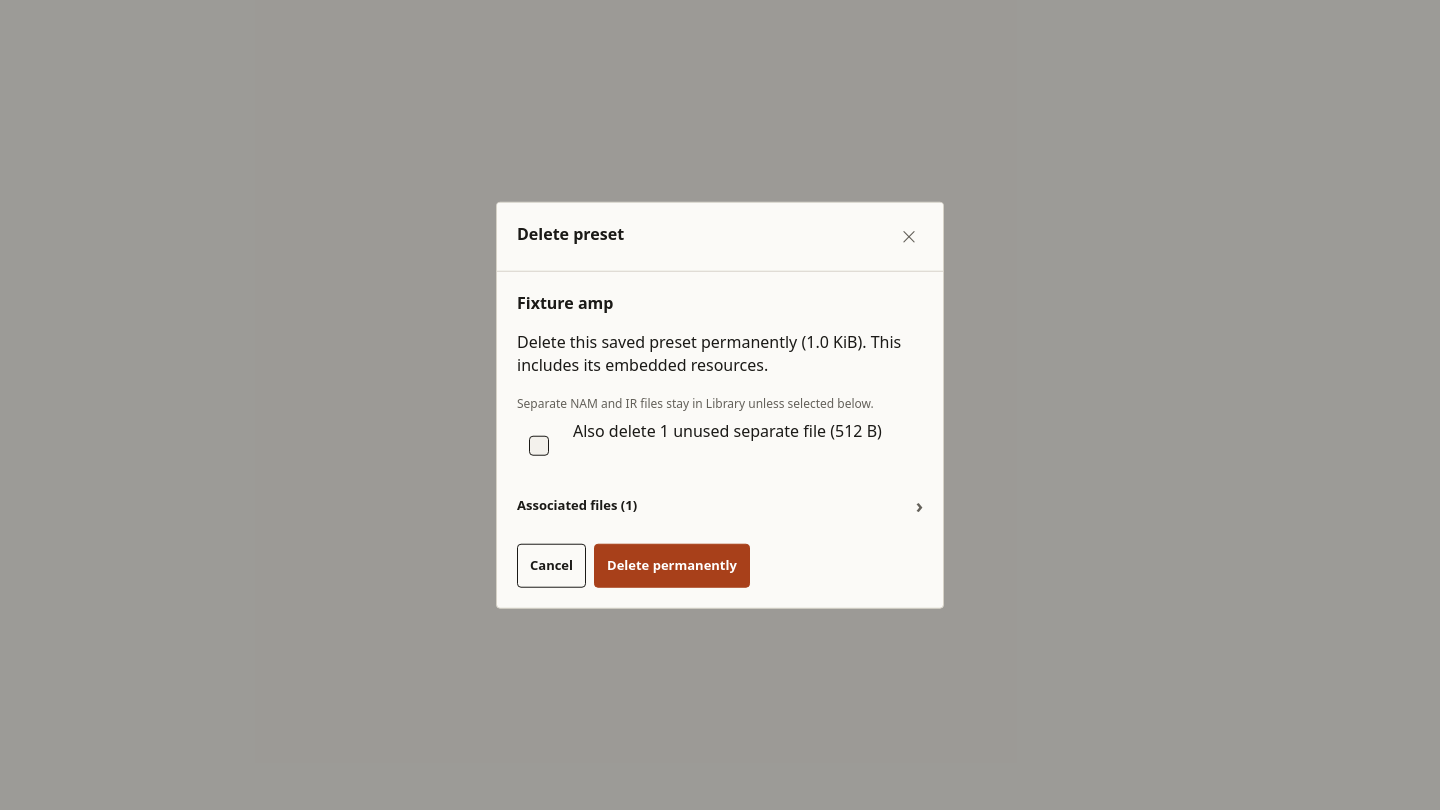
Test case: a stale or uncertain response requires a new preview and never retries deletion
expect the checkbox is shown: met, box [529,435,549,455]
What coordinates should you click on to do the following:
click the button "Delete permanently"
I would click on:
 (672, 565)
Its box is [594,543,750,587].
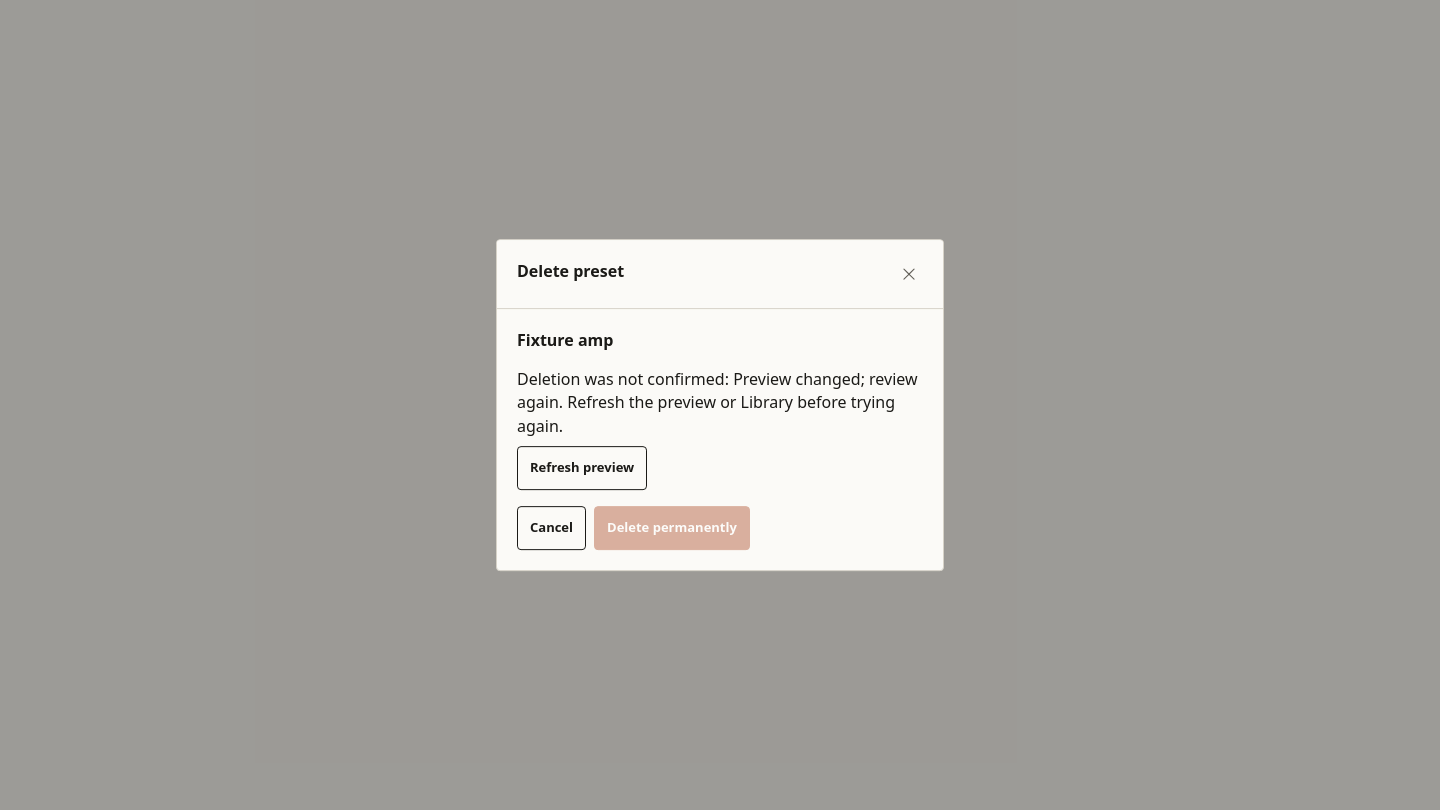
expect the message is shown: met, box [517,368,923,490]
expect the button "Delete permanently" is disabled: met, box [594,506,750,550]
What coordinates should you click on to do the following:
click the button "Refresh preview"
I would click on:
 (582, 468)
Its box is [517,446,647,490].
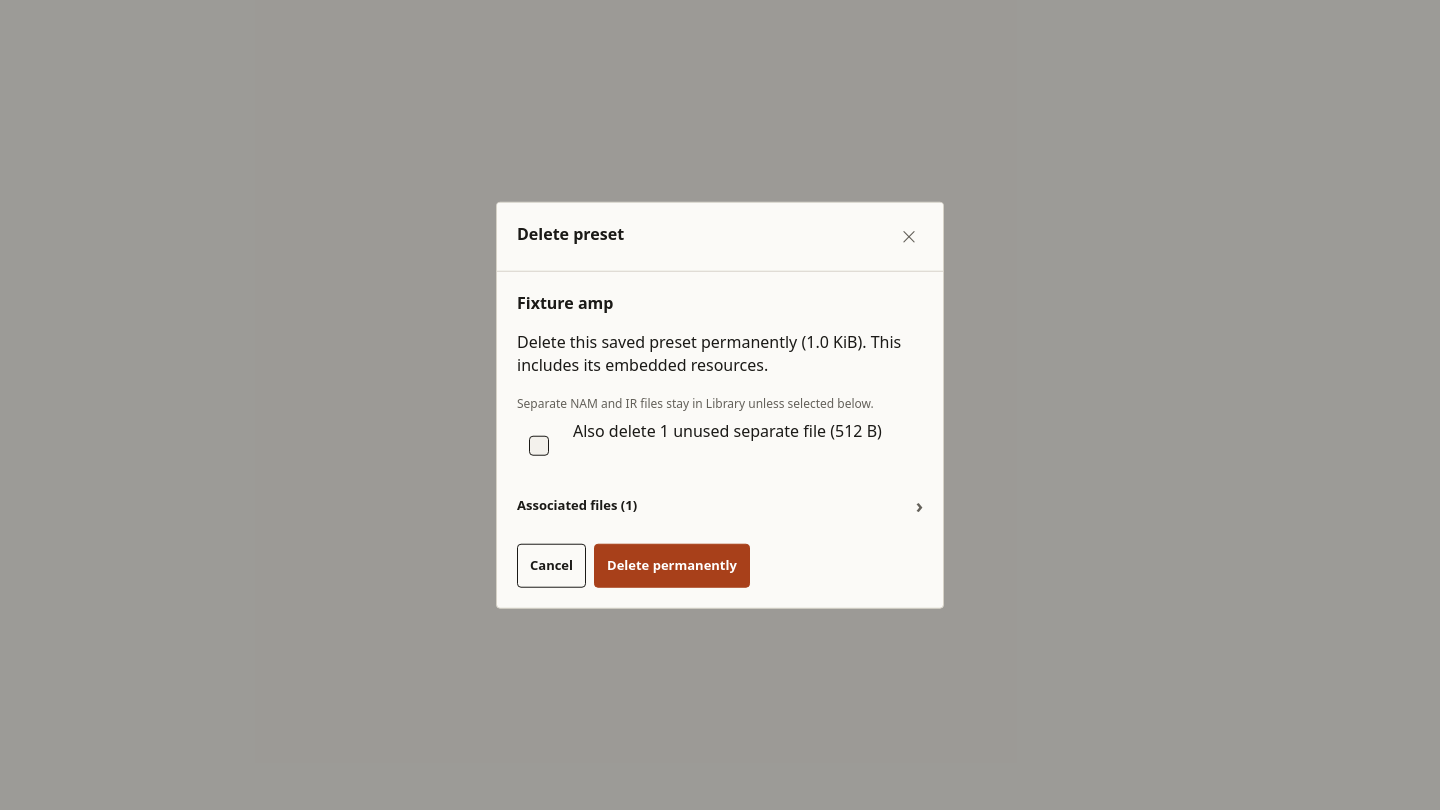
expect the checkbox is not checked: met, box [529,435,549,455]
